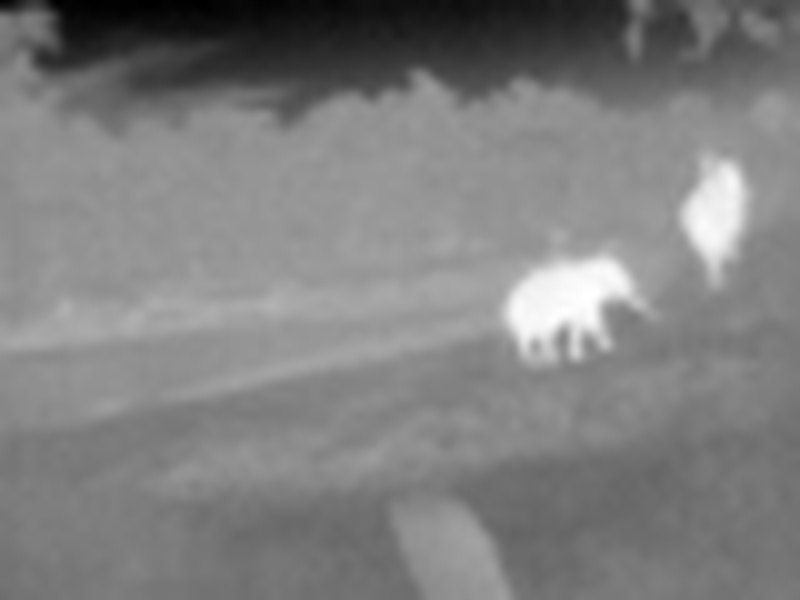elephant: (505, 252, 654, 362), (666, 154, 766, 280)
